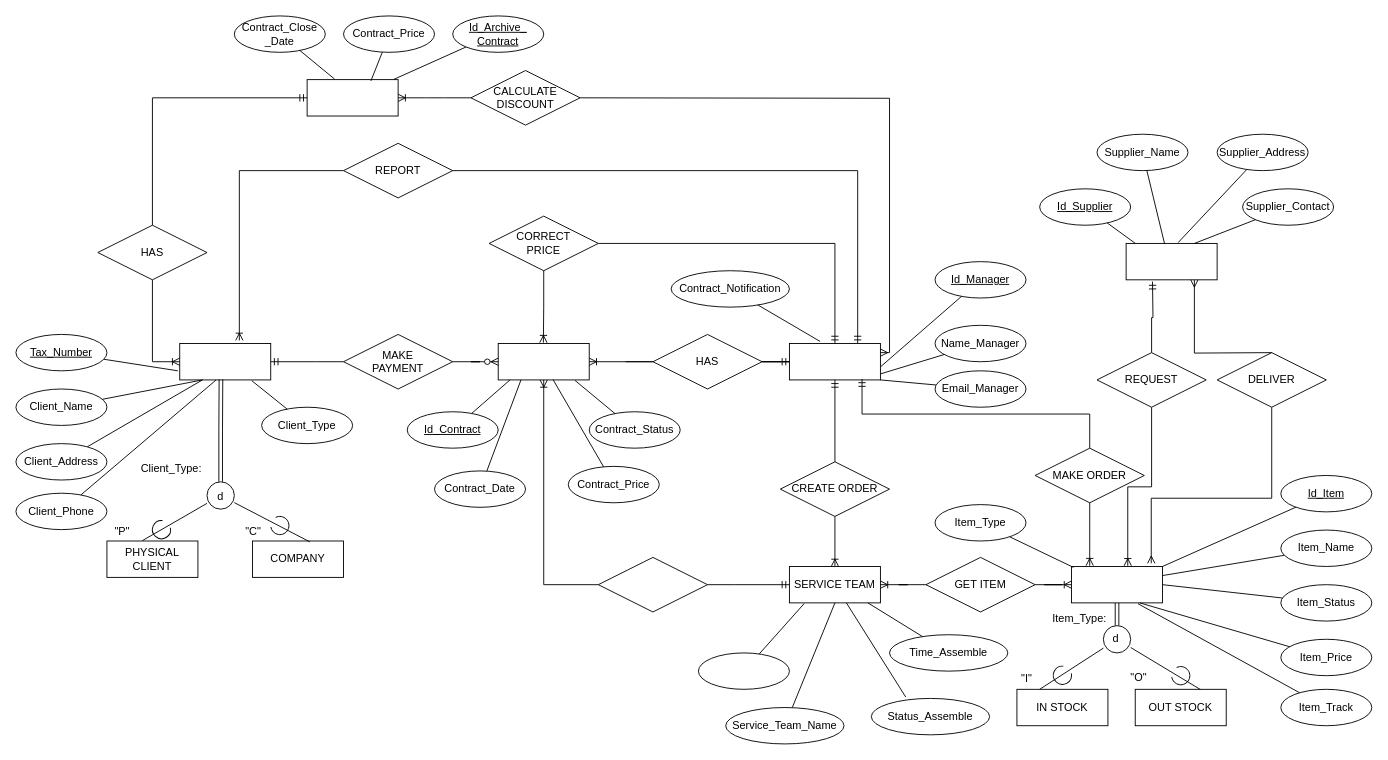
This 1388x760 diagram has some shape labels left out. Here are the shapes that lost their labels. From the top down, the centre of each, then its label:
the point at 352,97: HISTORY ORDER
the point at 1171,261: SUPPLIER
the point at 225,361: CLIENT
the point at 543,361: CONTRACT
the point at 834,361: MANAGER
the point at 652,584: ASSEMBLE
the point at 1117,584: ITEM
the point at 743,670: Id_Service
